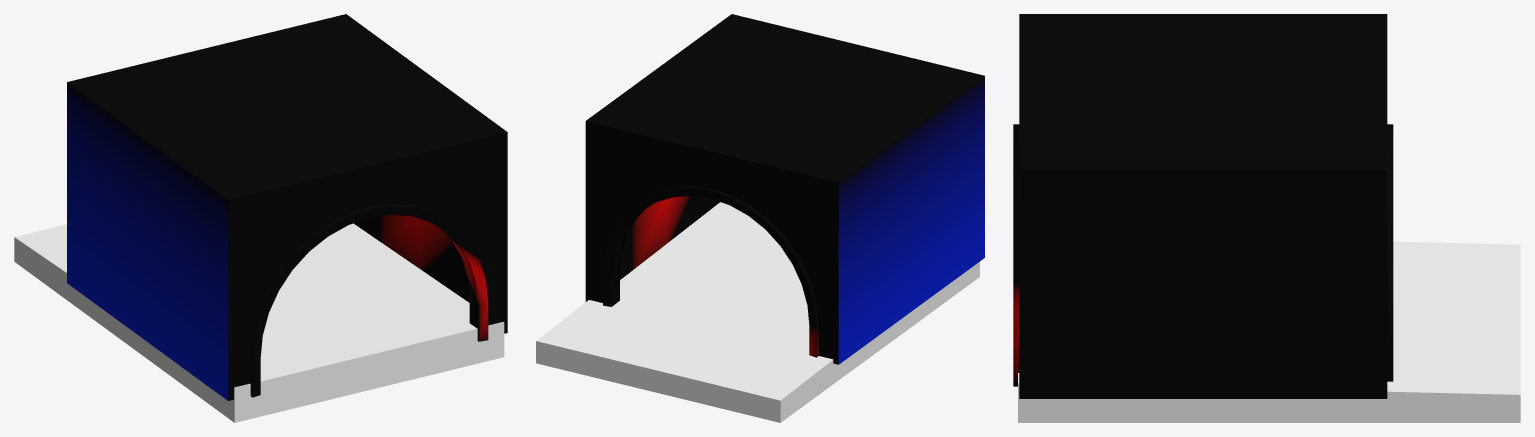
Rendered from ApartmentEntry.fbx.
The picture shows the model from 3 angles, left to right: view 1: azimuth 30°, elevation 25°; view 2: azimuth 150°, elevation 25°; view 3: azimuth 270°, elevation 25°; orthographic projection. The views are drawn at different scales.
Parts seen in each view (by area): view 1: ApartmentEntry; view 2: ApartmentEntry; view 3: ApartmentEntry.
Part boxes in pixels (x1,y1,x2,y2): ApartmentEntry: [14, 14, 507, 422]; ApartmentEntry: [536, 14, 984, 422]; ApartmentEntry: [1013, 14, 1520, 422].
Bounding box in the file's own units: 800 × 613 × 1103.
